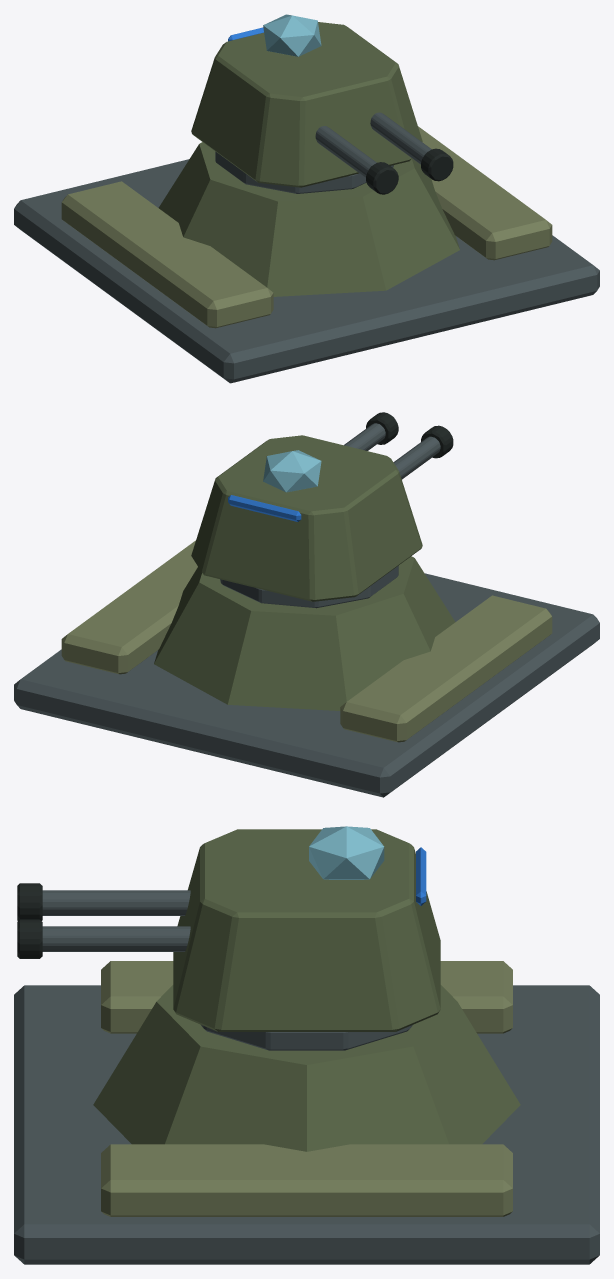
Rendered from h_turret.glb.
3 renders of one model, top to bottom at view 1: azimuth 30°, elevation 25°; view 2: azimuth 150°, elevation 25°; view 3: azimuth 270°, elevation 25°, orthographic. The views are drawn at different scales.
Visible parts, largest first — view 1: Base, Head, Guns; view 2: Base, Head, Guns; view 3: Base, Head, Guns.
Boxes of the visible parts, x1,y1,x2,y2 form: Base: [14, 126, 599, 383]; Head: [191, 14, 422, 187]; Guns: [315, 112, 453, 194]; Base: [14, 540, 599, 797]; Head: [191, 435, 422, 601]; Guns: [344, 412, 453, 479]; Base: [14, 961, 599, 1264]; Head: [173, 826, 440, 1031]; Guns: [17, 883, 190, 958].
Size of the model in its own units: 3.7 by 2.22 by 3.7.
